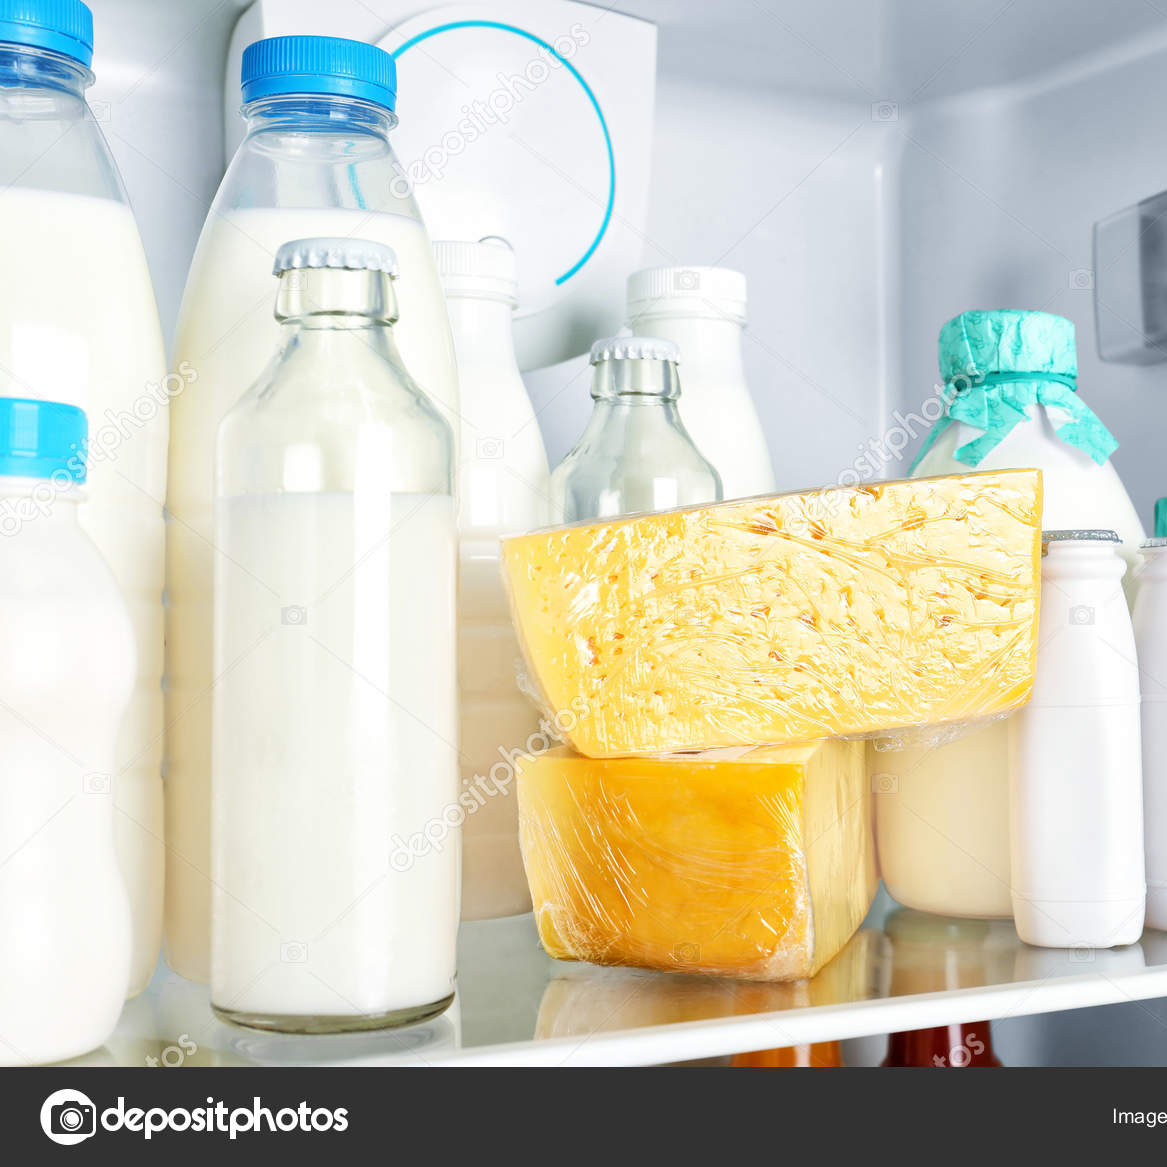milk: (172, 35, 463, 1025), (874, 313, 1167, 949), (1, 2, 164, 1063), (446, 236, 792, 510)
